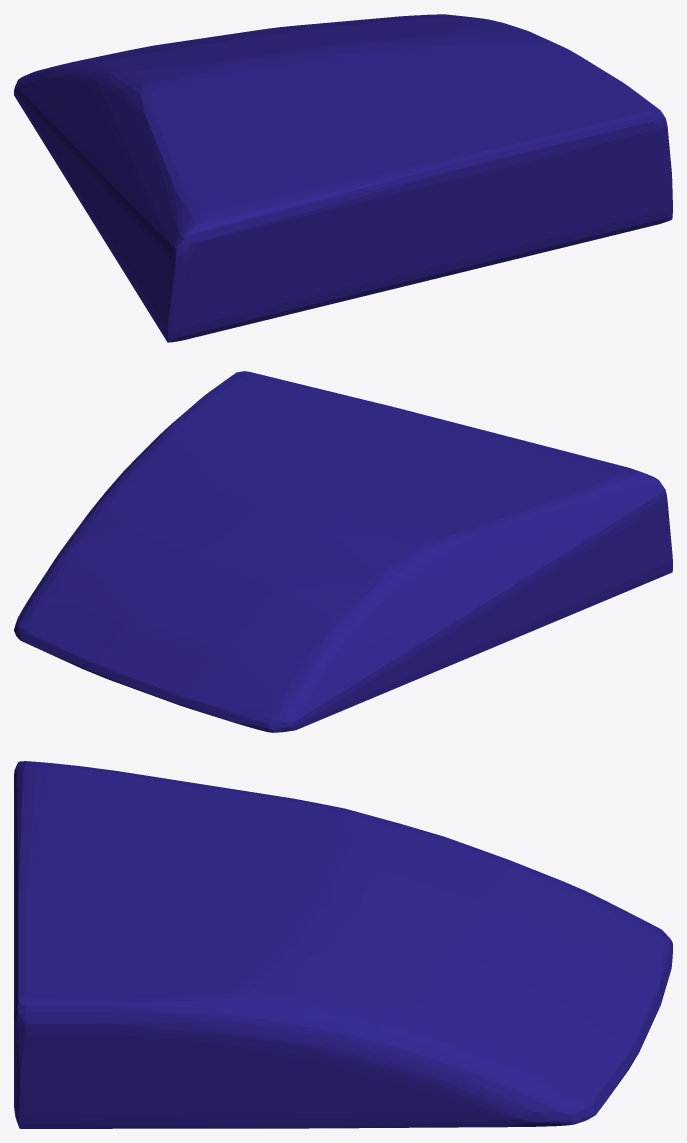
File: right_hip_pitch_link_part_18.obj
3 renders of one model, top to bottom at view 1: azimuth 30°, elevation 25°; view 2: azimuth 150°, elevation 25°; view 3: azimuth 270°, elevation 25°, orthographic. The views are drawn at different scales.
Bounding box in the file's own units: 0.0795 × 0.017 × 0.083.
